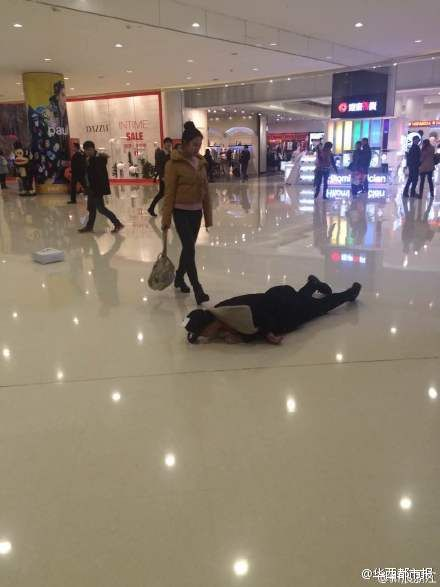10+: (1, 117, 440, 306)
down: (181, 270, 363, 347)
